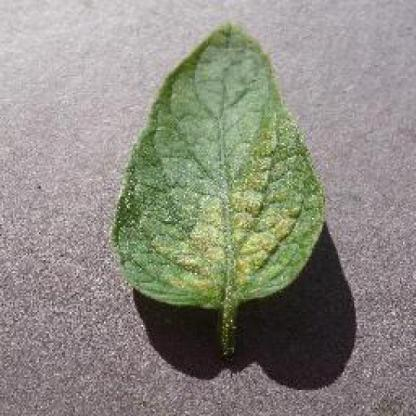Tomato_Spider_Mites: (112, 23, 324, 309)
